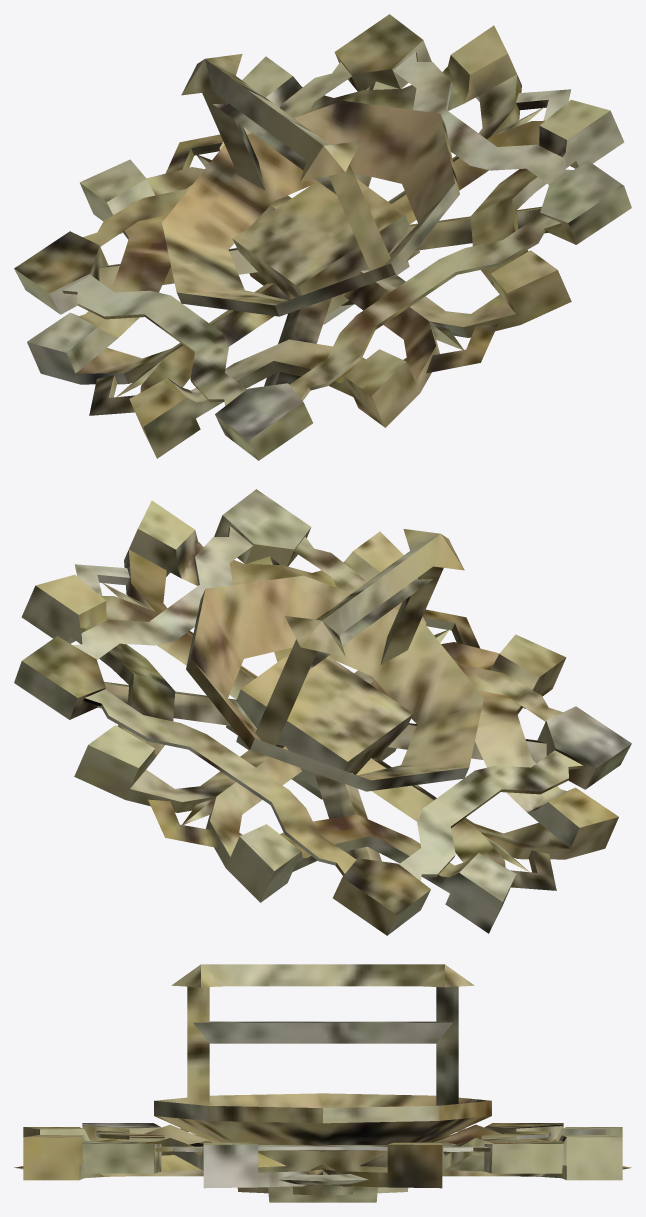
3 renders of one model, top to bottom at view 1: azimuth 30°, elevation 25°; view 2: azimuth 150°, elevation 25°; view 3: azimuth 270°, elevation 25°, orthographic. The views are drawn at different scales.
Parts seen in each view (by area): view 1: mesh_0; view 2: mesh_0; view 3: mesh_0.
Part boxes in pixels (bbox=[...]): mesh_0: bbox=[14, 14, 631, 460]; mesh_0: bbox=[14, 489, 631, 935]; mesh_0: bbox=[14, 964, 631, 1202].
Bounding box in the file's own units: 22.39 × 12.04 × 24.03.
1 material, 1 textured.
